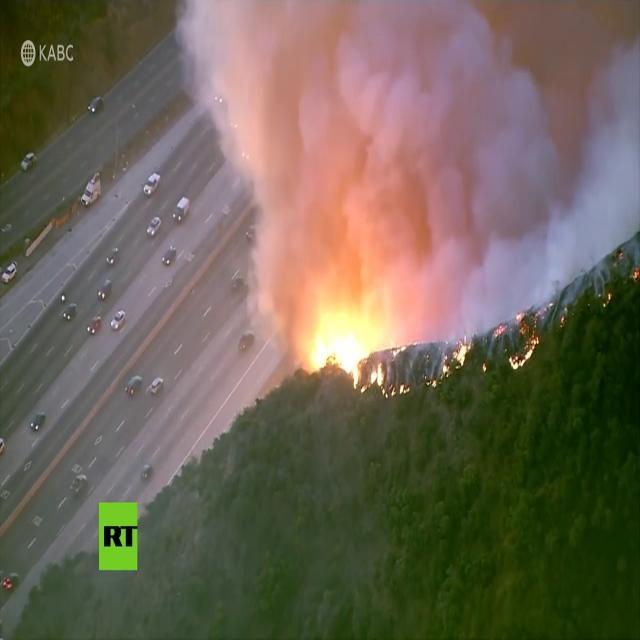Fire: (316, 322, 362, 388), (363, 367, 411, 398), (440, 336, 470, 385), (506, 344, 534, 372)
